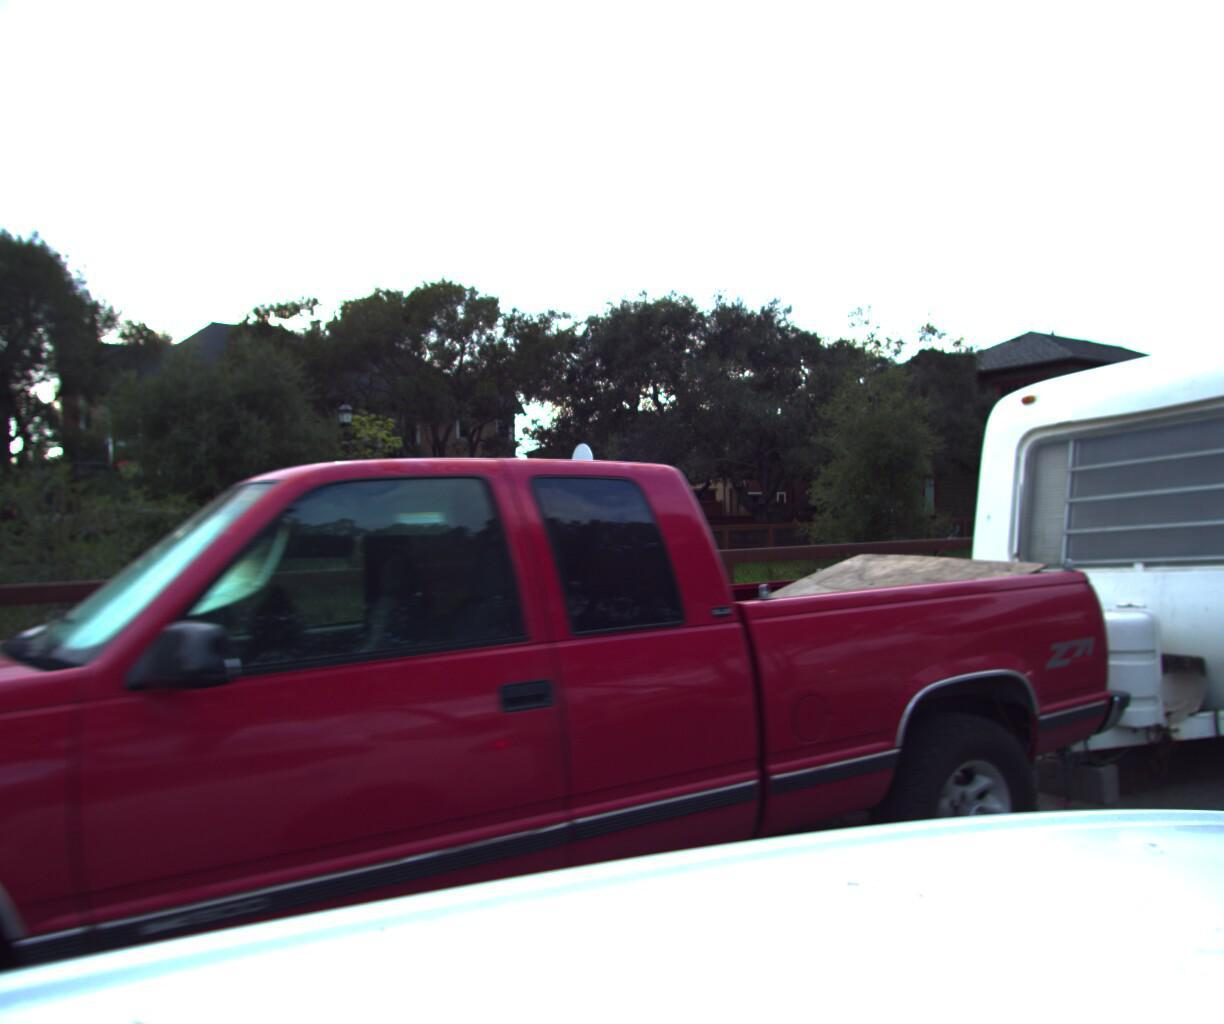car: (0, 363, 1160, 1024)
other_vehicle: (906, 150, 1224, 841)
